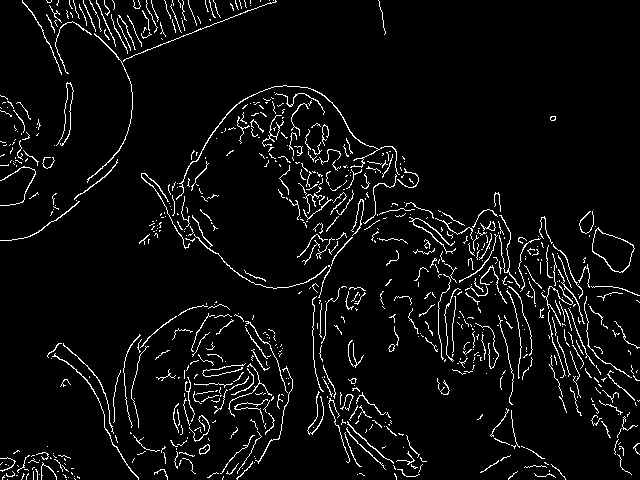red_onion: (136, 66, 423, 295), (302, 195, 533, 478), (39, 303, 293, 478)
